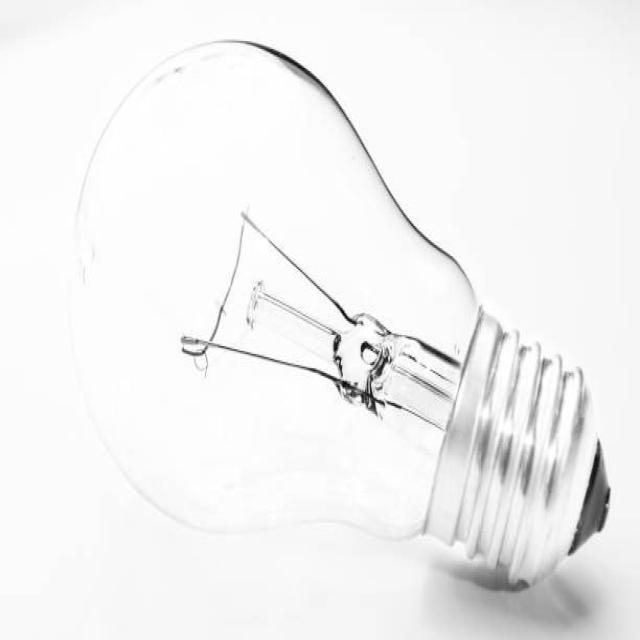electronic: (70, 36, 611, 592)
